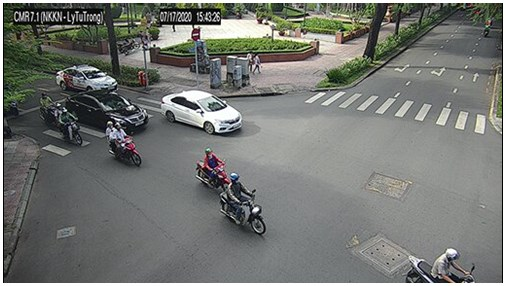di_bo: (246, 50, 253, 73), (254, 54, 261, 75)
xe_hoi: (160, 90, 242, 135), (67, 89, 149, 132)
xe_may: (219, 173, 267, 235), (404, 248, 478, 283), (105, 120, 142, 167), (195, 148, 230, 190), (56, 103, 84, 147), (39, 92, 56, 125), (115, 36, 139, 54), (6, 95, 19, 116), (483, 21, 490, 37)
xe_taxi: (56, 64, 120, 91)
